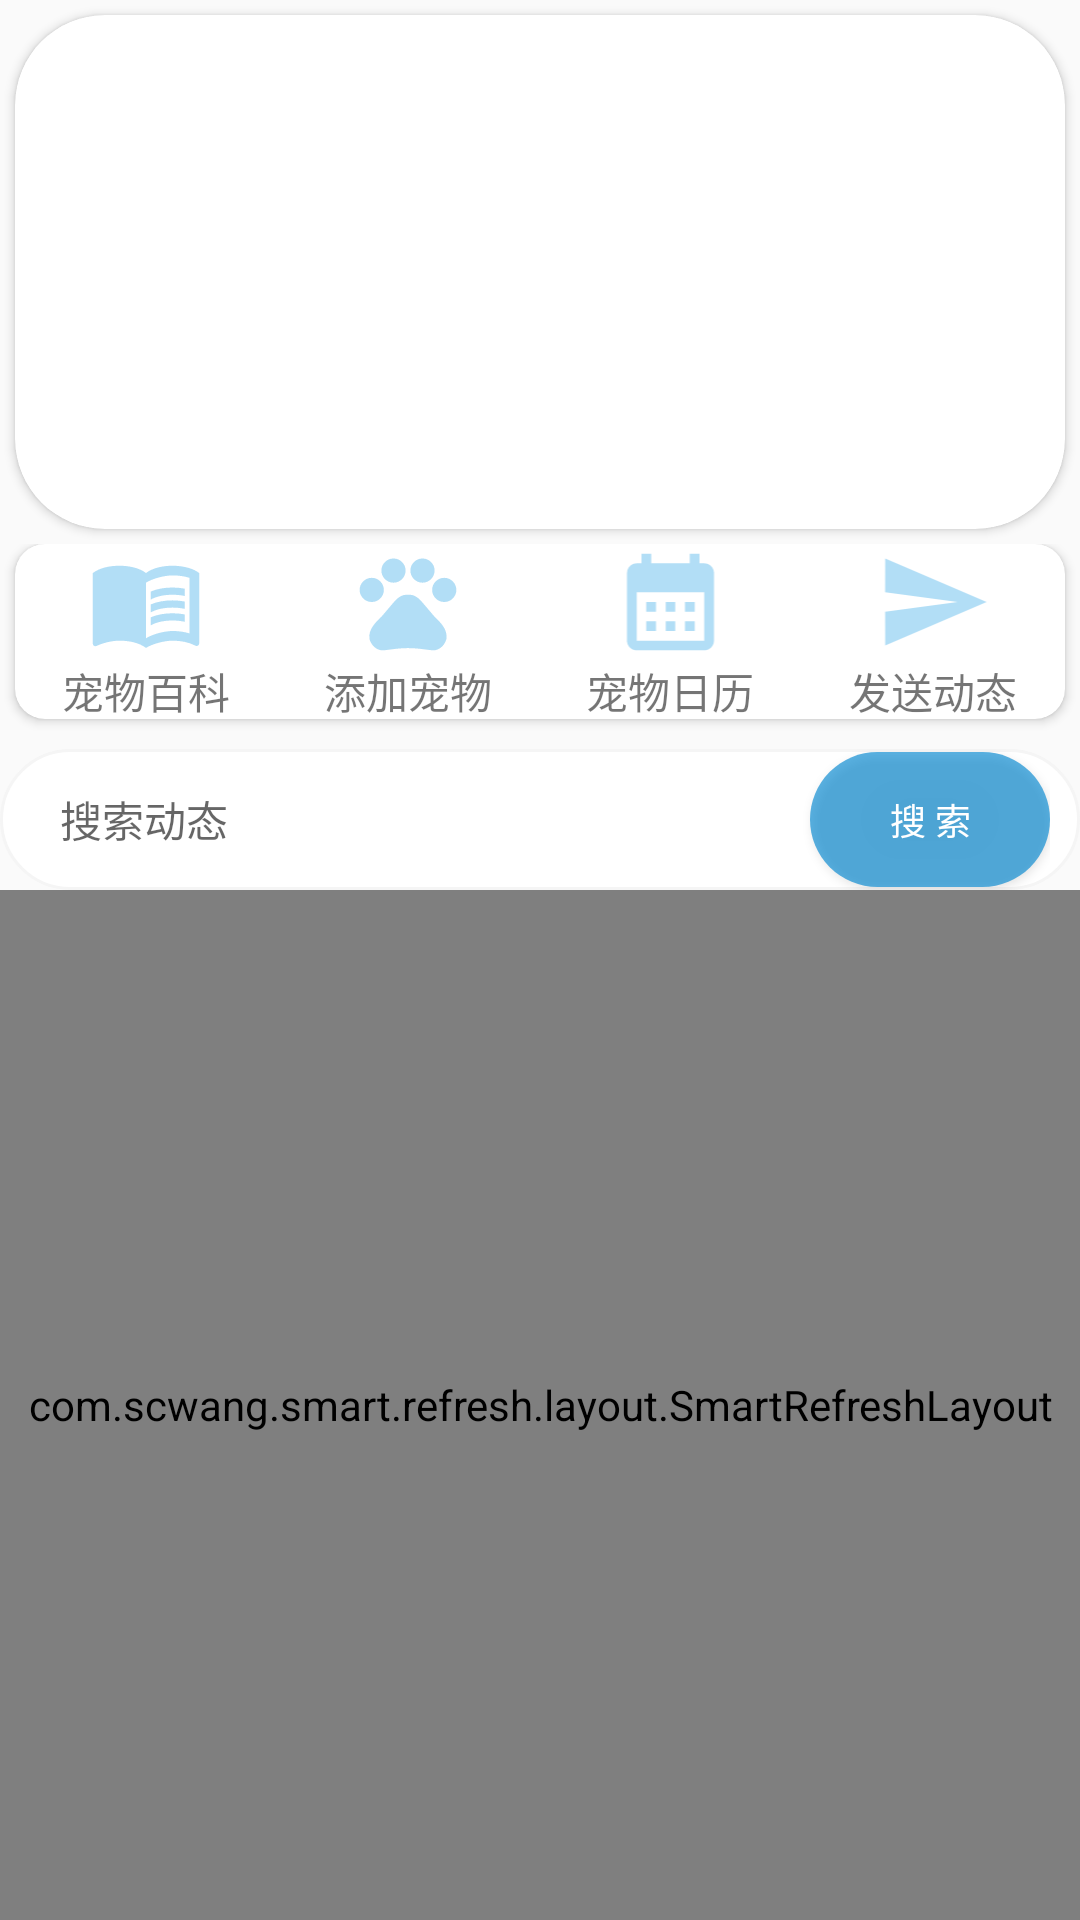

Icons on this 1080x1920 Android screen, each with the point to tap as [x,y]:
book: [114,597]
